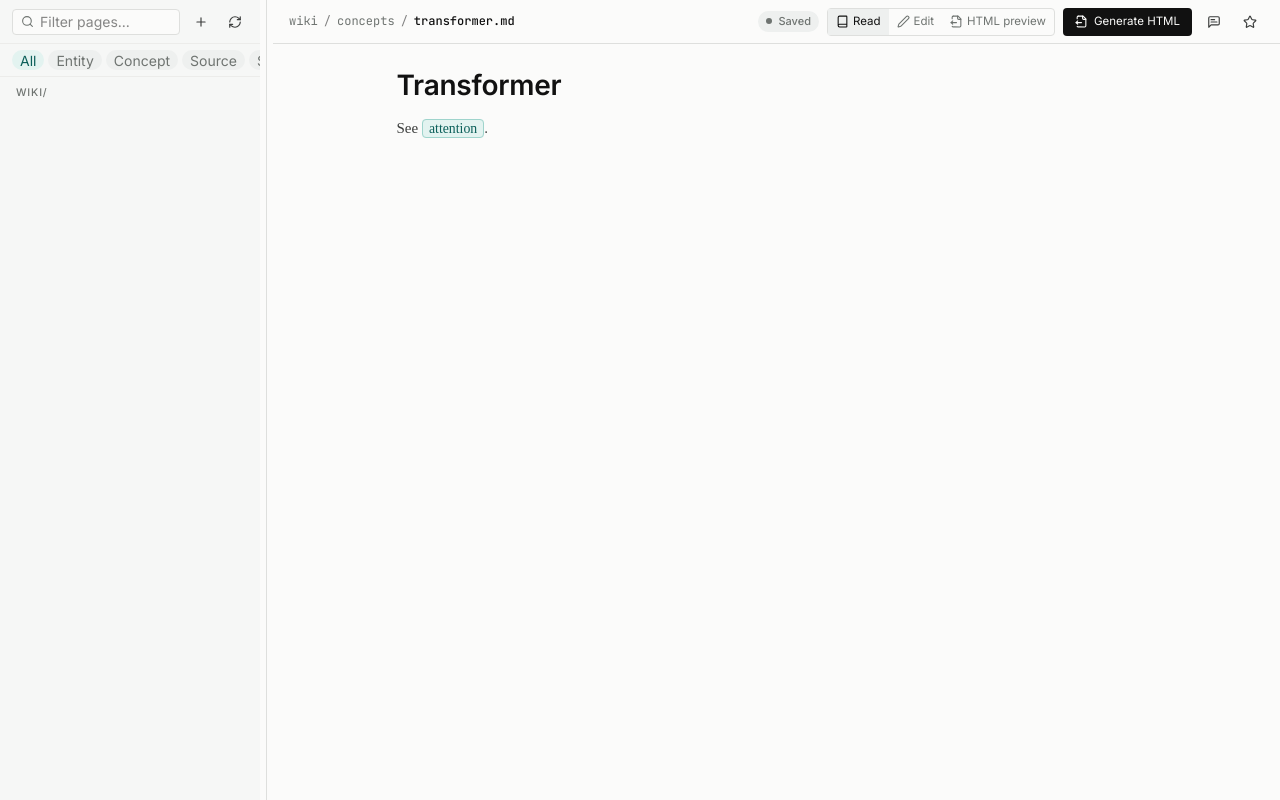
Scenario: Wiki HTML preview › keeps a deferred start task fact without stale page presentation
Click the button "Generate HTML": (1128, 22) [1063, 8, 1192, 36]
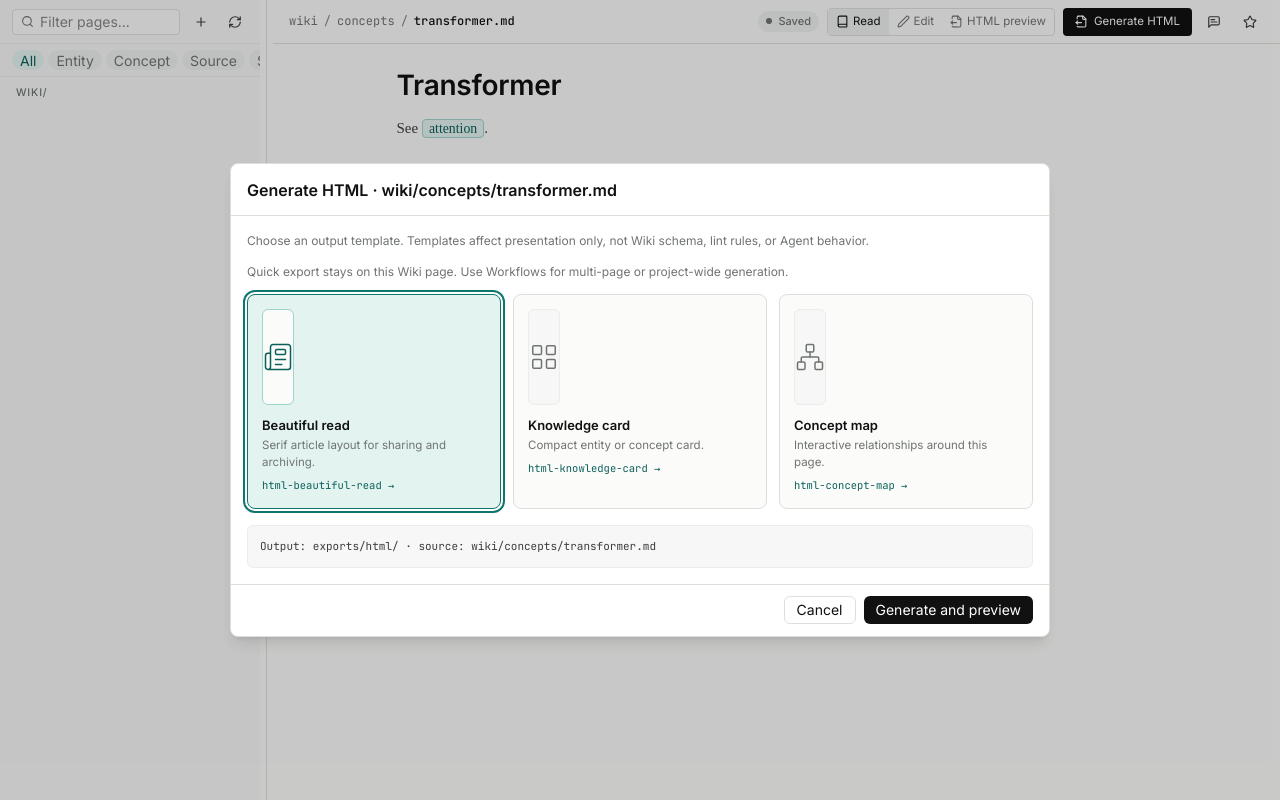
Click the button "Generate and preview": (948, 610) [864, 596, 1033, 624]
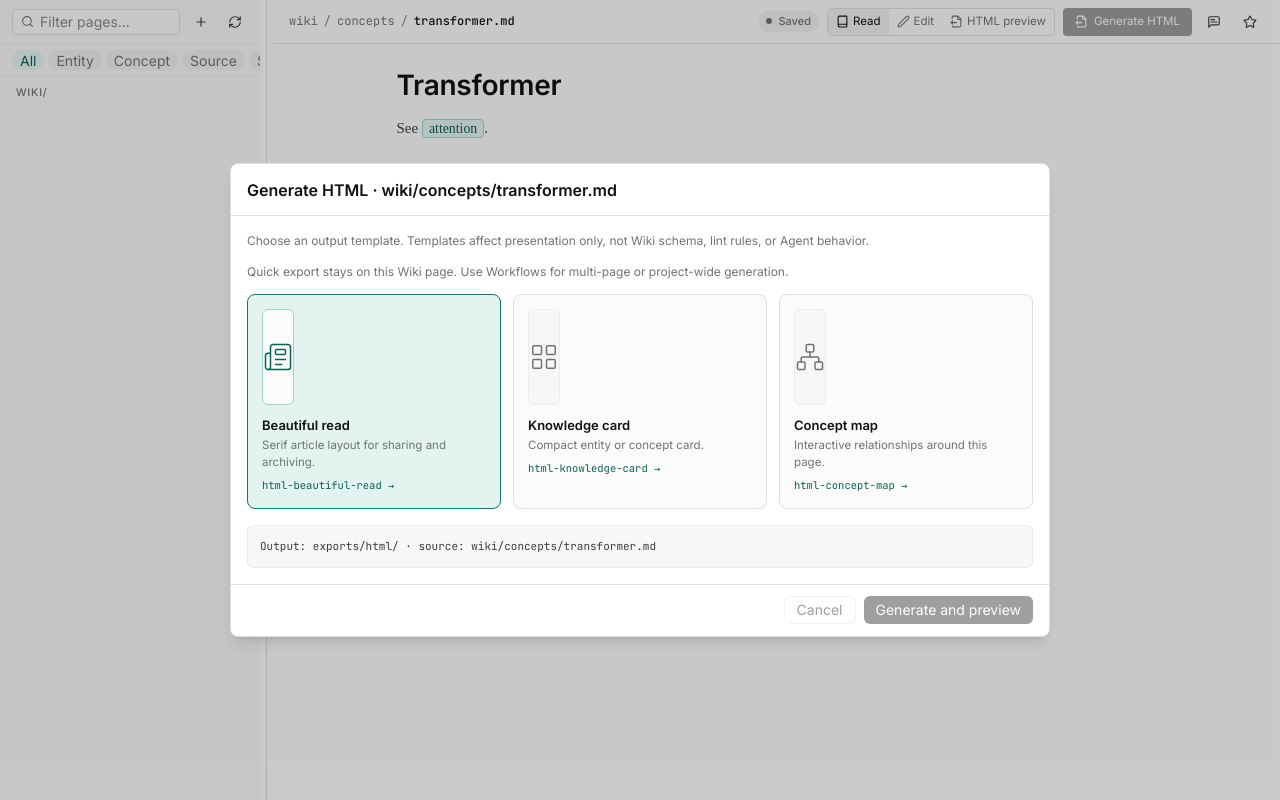
Now the button "Cancel" is disabled, box [784, 596, 856, 624]
Now the button "Generate and preview" is disabled, box [864, 596, 1033, 624]
